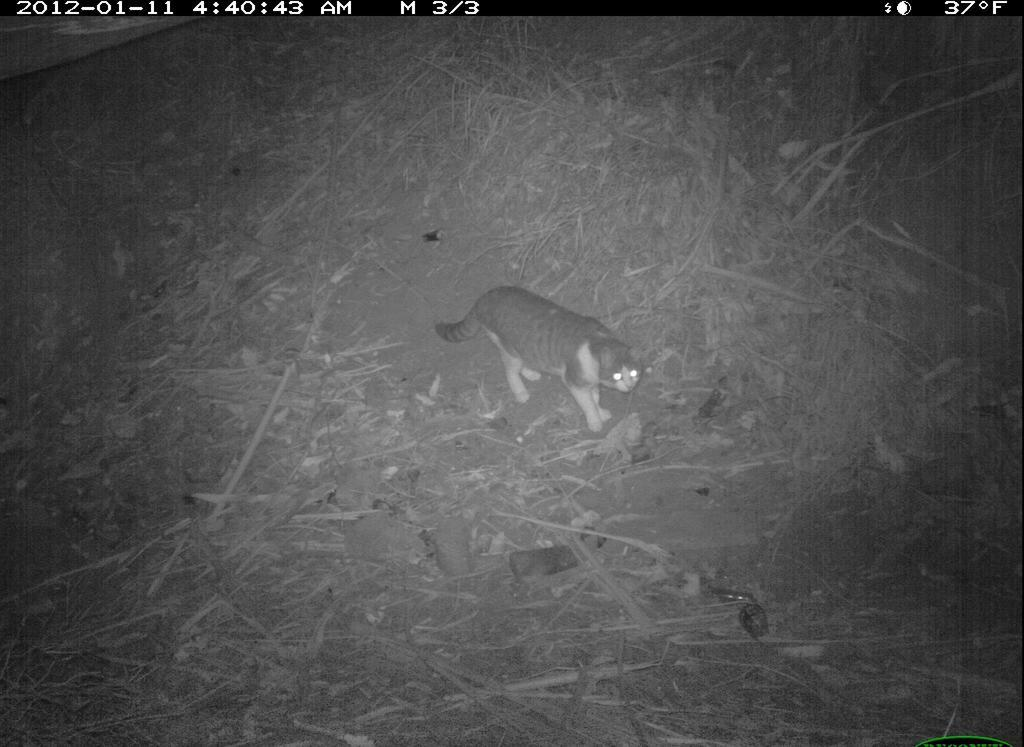cat: (437, 277, 661, 442)
